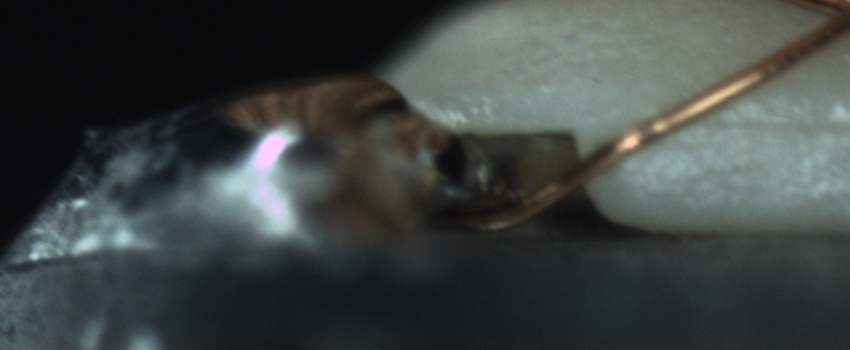CL: (807, 1, 850, 42)
DL: (687, 91, 848, 158)
